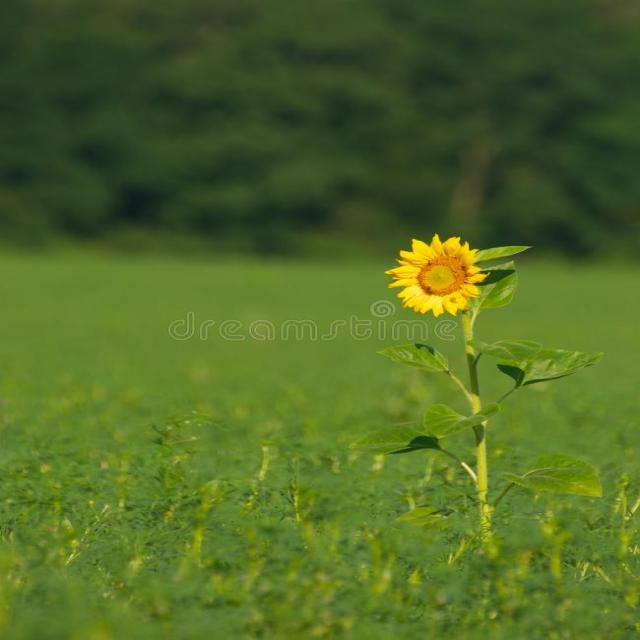sunflower: (384, 229, 493, 324)
